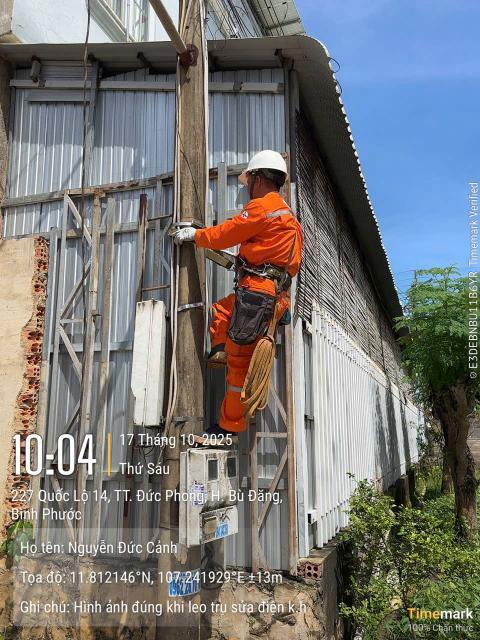gloves: (164, 228, 203, 252)
harness: (209, 243, 299, 301)
helmet: (226, 146, 295, 186)
shoes: (184, 422, 247, 453), (183, 340, 238, 371)
